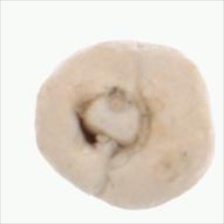L3: (76, 86, 151, 162)
L4: (35, 39, 215, 210)
